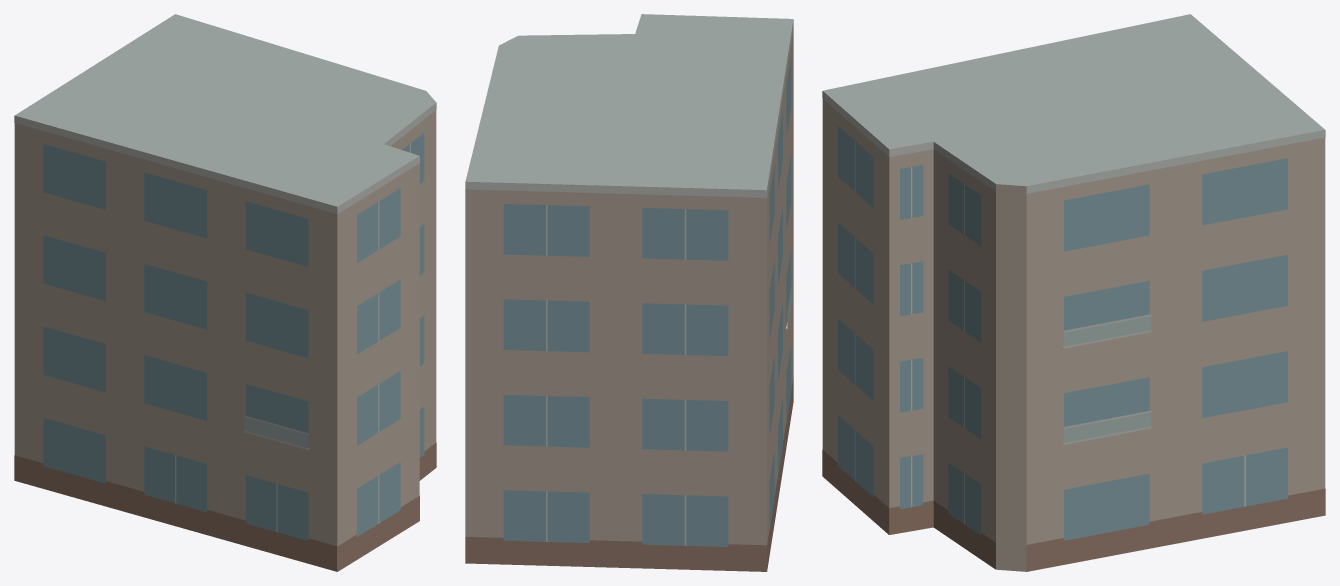
Rendered from survey-upis-32726630.glb.
3 views of the same model, side by side, from view 1: azimuth 30°, elevation 25°; view 2: azimuth 150°, elevation 25°; view 3: azimuth 270°, elevation 25° (orthographic). The views are drawn at different scales.
Visible parts, largest first — view 1: survey-upis-32726630.tmp; view 2: survey-upis-32726630.tmp; view 3: survey-upis-32726630.tmp.
Part boxes in pixels (bbox=[...]): survey-upis-32726630.tmp: bbox=[14, 14, 436, 571]; survey-upis-32726630.tmp: bbox=[465, 14, 793, 571]; survey-upis-32726630.tmp: bbox=[822, 14, 1325, 571].
Bounding box in the file's own units: 11.69 × 12.2 × 14.43.
